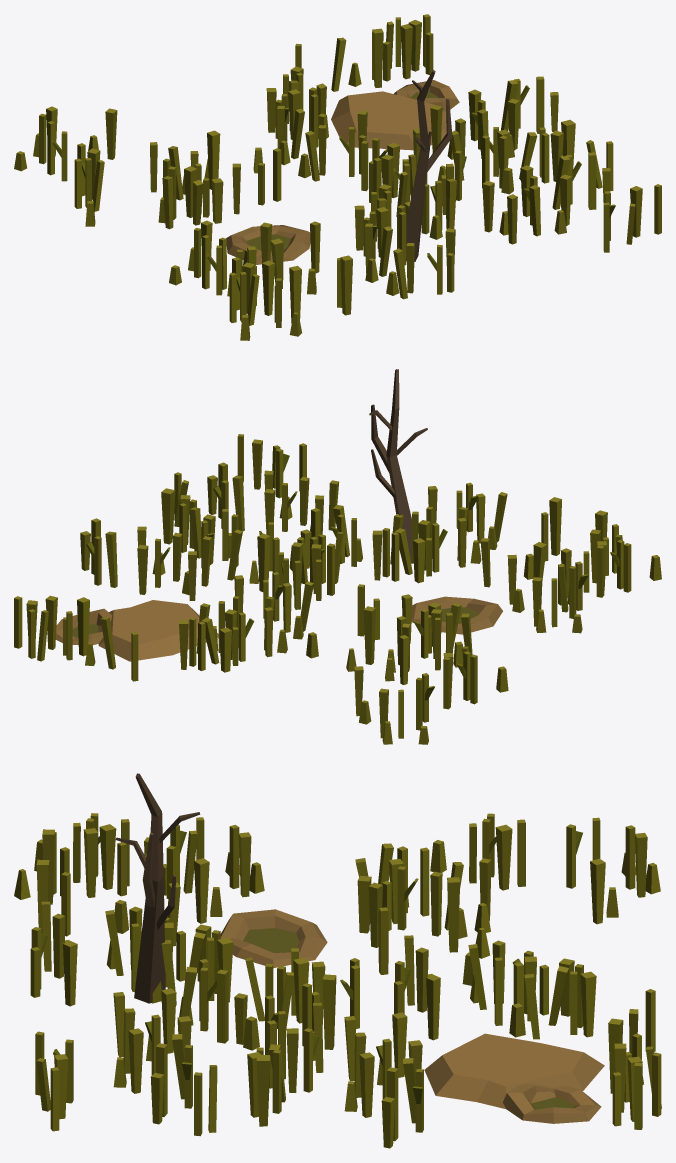
Rendered from SF_Env_Swamp_Preset_05.FBX.
3 renders of one model, top to bottom at view 1: azimuth 30°, elevation 25°; view 2: azimuth 150°, elevation 25°; view 3: azimuth 270°, elevation 25°, orthographic. The views are drawn at different scales.
Visible parts, largest first — view 1: SF_Env_Swamp_Preset_05_Elements120, SF_Env_Swamp_Preset_05_Elements115, SF_Env_Swamp_Preset_05_Elements122, SF_Env_Swamp_Preset_05_Elements107, SF_Env_Swamp_Preset_05_Elements126, SF_Env_Swamp_Preset_05_Elements174, SF_Env_Swamp_Preset_05_Elements83, SF_Env_Swamp_Preset_05_Elements90, SF_Env_Swamp_Preset_05_Elements170, SF_Env_Swamp_Preset_05_Elements44, SF_Env_Swamp_Preset_05_Elements201, SF_Env_Swamp_Preset_05_Elements135 (+13 smaller); view 2: SF_Env_Swamp_Preset_05_Elements120, SF_Env_Swamp_Preset_05_Elements115, SF_Env_Swamp_Preset_05_Elements122, SF_Env_Swamp_Preset_05_Elements18, SF_Env_Swamp_Preset_05_Elements107, SF_Env_Swamp_Preset_05_Elements174, SF_Env_Swamp_Preset_05_Elements126, SF_Env_Swamp_Preset_05_Elements55, SF_Env_Swamp_Preset_05_Elements146; view 3: SF_Env_Swamp_Preset_05_Elements120, SF_Env_Swamp_Preset_05_Elements115, SF_Env_Swamp_Preset_05_Elements122, SF_Env_Swamp_Preset_05_Elements55, SF_Env_Swamp_Preset_05_Elements191, SF_Env_Swamp_Preset_05_Elements91, SF_Env_Swamp_Preset_05_Elements126, SF_Env_Swamp_Preset_05_Elements52, SF_Env_Swamp_Preset_05_Elements177, SF_Env_Swamp_Preset_05_Elements18, SF_Env_Swamp_Preset_05_Elements201, SF_Env_Swamp_Preset_05_Elements103 (+58 smaller).
Boxes of the visible parts, x1,y1,x2,y2 form: SF_Env_Swamp_Preset_05_Elements120: (331, 80, 459, 150); SF_Env_Swamp_Preset_05_Elements115: (397, 69, 452, 261); SF_Env_Swamp_Preset_05_Elements122: (226, 225, 310, 264); SF_Env_Swamp_Preset_05_Elements107: (340, 255, 352, 315); SF_Env_Swamp_Preset_05_Elements126: (207, 130, 220, 189); SF_Env_Swamp_Preset_05_Elements174: (372, 28, 383, 87); SF_Env_Swamp_Preset_05_Elements83: (262, 260, 274, 315); SF_Env_Swamp_Preset_05_Elements90: (289, 265, 301, 323); SF_Env_Swamp_Preset_05_Elements170: (400, 24, 412, 79); SF_Env_Swamp_Preset_05_Elements44: (482, 181, 494, 232); SF_Env_Swamp_Preset_05_Elements201: (105, 108, 117, 159); SF_Env_Swamp_Preset_05_Elements135: (162, 176, 173, 229); SF_Env_Swamp_Preset_05_Elements120: (56, 600, 218, 661); SF_Env_Swamp_Preset_05_Elements115: (369, 369, 427, 564); SF_Env_Swamp_Preset_05_Elements122: (411, 596, 502, 634); SF_Env_Swamp_Preset_05_Elements18: (161, 488, 175, 544); SF_Env_Swamp_Preset_05_Elements107: (549, 497, 561, 555); SF_Env_Swamp_Preset_05_Elements174: (77, 597, 89, 656); SF_Env_Swamp_Preset_05_Elements126: (363, 606, 375, 664); SF_Env_Swamp_Preset_05_Elements55: (257, 533, 270, 591); SF_Env_Swamp_Preset_05_Elements146: (105, 531, 117, 587); SF_Env_Swamp_Preset_05_Elements120: (424, 1033, 604, 1123); SF_Env_Swamp_Preset_05_Elements115: (115, 773, 200, 1005); SF_Env_Swamp_Preset_05_Elements122: (220, 909, 327, 968); SF_Env_Swamp_Preset_05_Elements55: (322, 974, 336, 1049); SF_Env_Swamp_Preset_05_Elements191: (495, 824, 512, 890); SF_Env_Swamp_Preset_05_Elements91: (99, 824, 116, 889); SF_Env_Swamp_Preset_05_Elements126: (447, 877, 460, 952); SF_Env_Swamp_Preset_05_Elements52: (217, 969, 228, 1043); SF_Env_Swamp_Preset_05_Elements177: (580, 971, 596, 1037); SF_Env_Swamp_Preset_05_Elements18: (256, 1055, 270, 1126); SF_Env_Swamp_Preset_05_Elements201: (590, 858, 605, 924); SF_Env_Swamp_Preset_05_Elements103: (194, 858, 209, 923).
Bounding box in the file's own units: 19.88 × 7.76 × 19.24.
